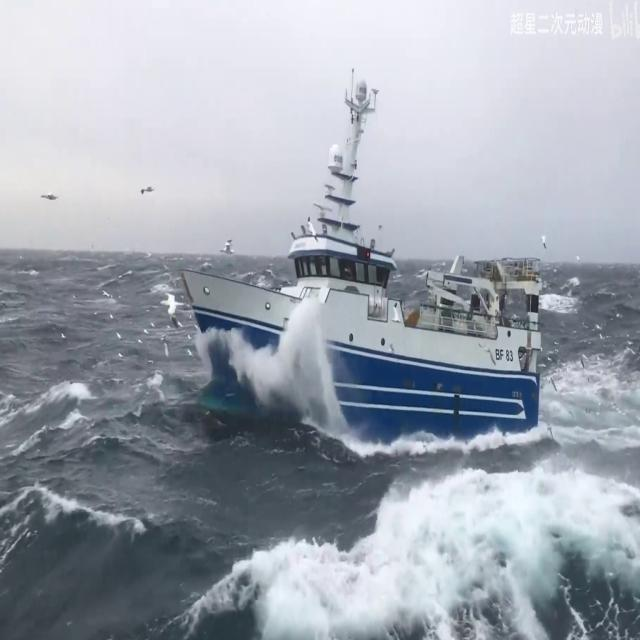houseboat: (184, 69, 543, 429)
